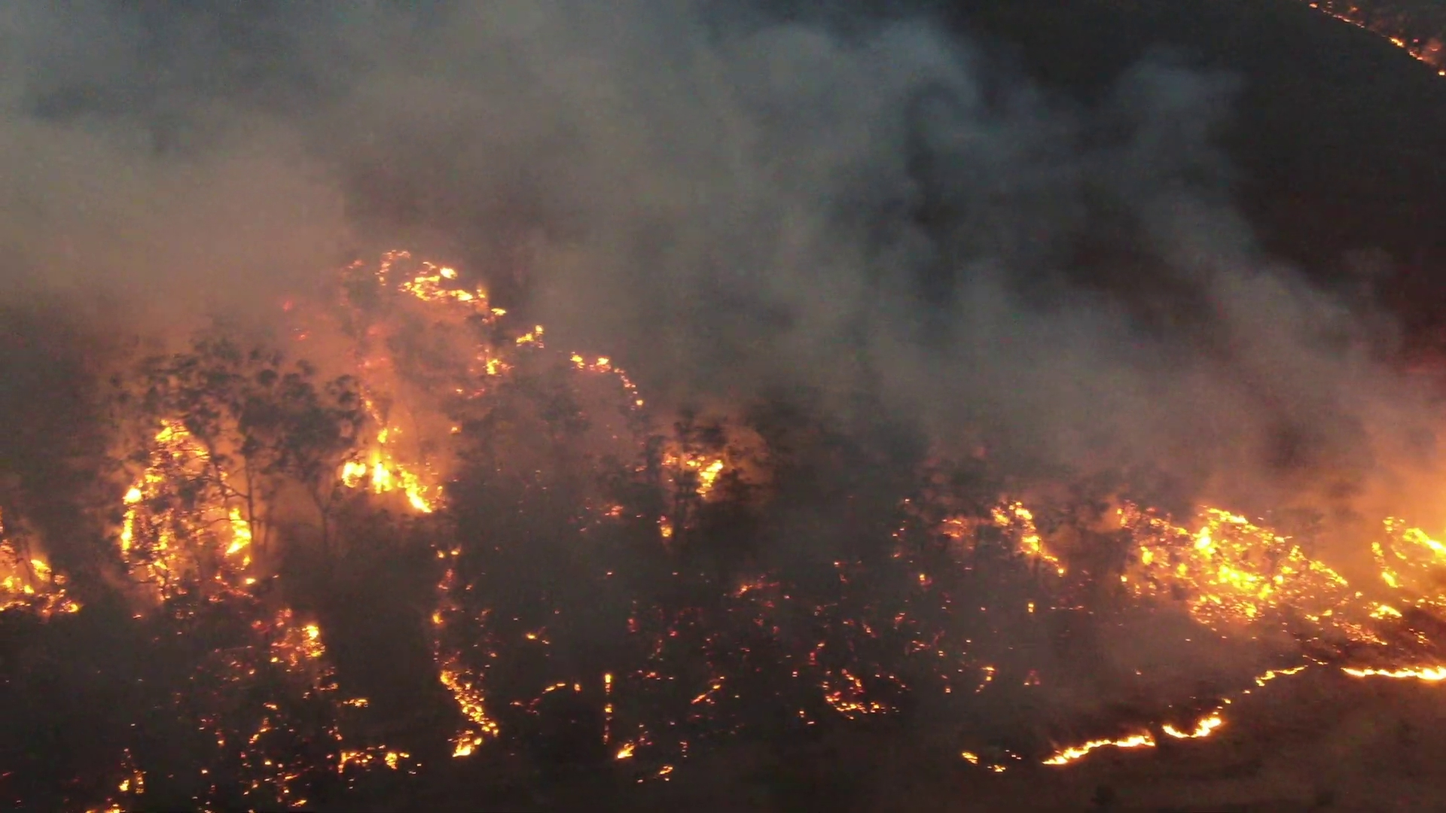forest_fire: (101, 252, 1445, 808), (5, 536, 81, 618), (523, 326, 539, 335), (316, 303, 325, 309), (137, 710, 148, 712), (753, 429, 759, 431), (737, 428, 745, 429), (163, 801, 169, 802), (1075, 723, 1077, 725), (41, 627, 43, 629), (1074, 505, 1076, 507), (1095, 551, 1096, 553), (774, 463, 775, 464), (313, 614, 313, 617)
